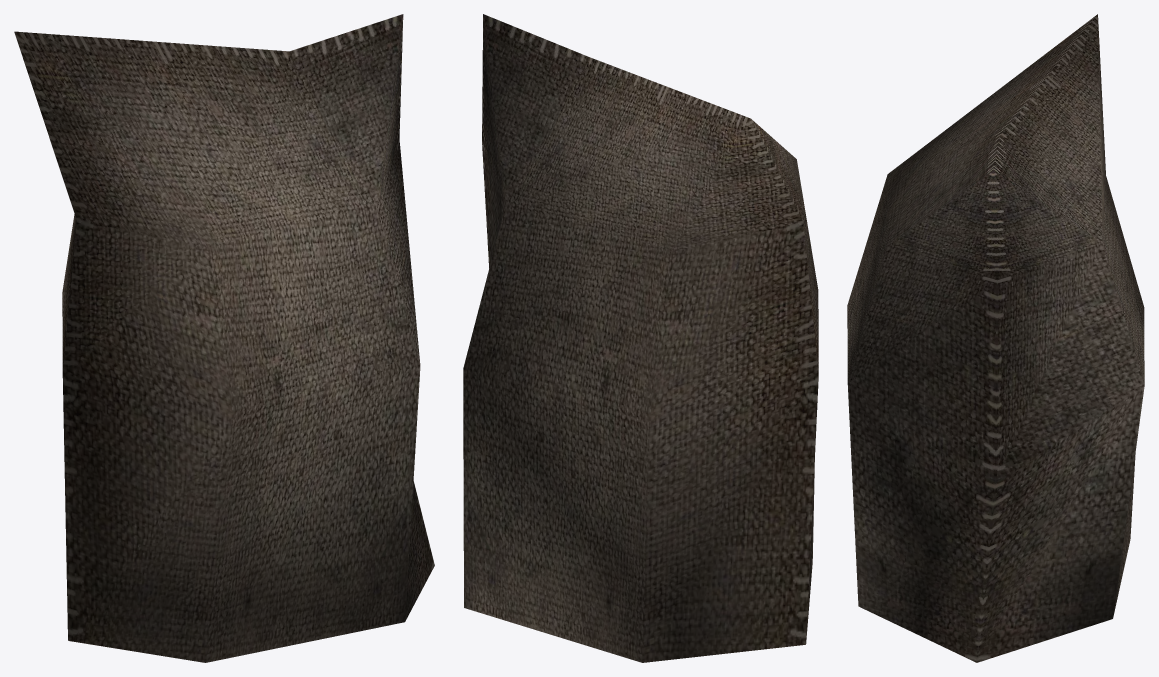
The model's file is OC_SACK_V03.glb.
3 renders of one model, left to right at view 1: azimuth 30°, elevation 25°; view 2: azimuth 150°, elevation 25°; view 3: azimuth 270°, elevation 25°, orthographic. The views are drawn at different scales.
Visible parts, largest first — view 1: Mesh; view 2: Mesh; view 3: Mesh.
Boxes of the visible parts, x1,y1,x2,y2 form: Mesh: (14, 14, 434, 662); Mesh: (463, 14, 818, 662); Mesh: (847, 14, 1144, 662).
Bounding box in the file's own units: 0.5521 × 0.8319 × 0.4491.
Materials: 1 (1 with a texture image).
